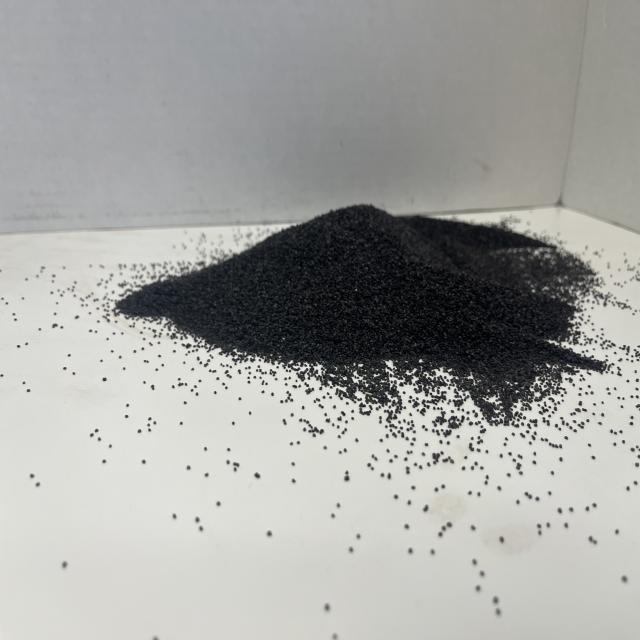Poppy Seeds: (113, 115, 631, 442)
